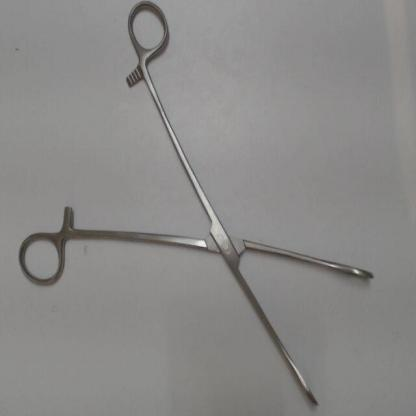Sponge Forceps: (12, 2, 384, 410)
